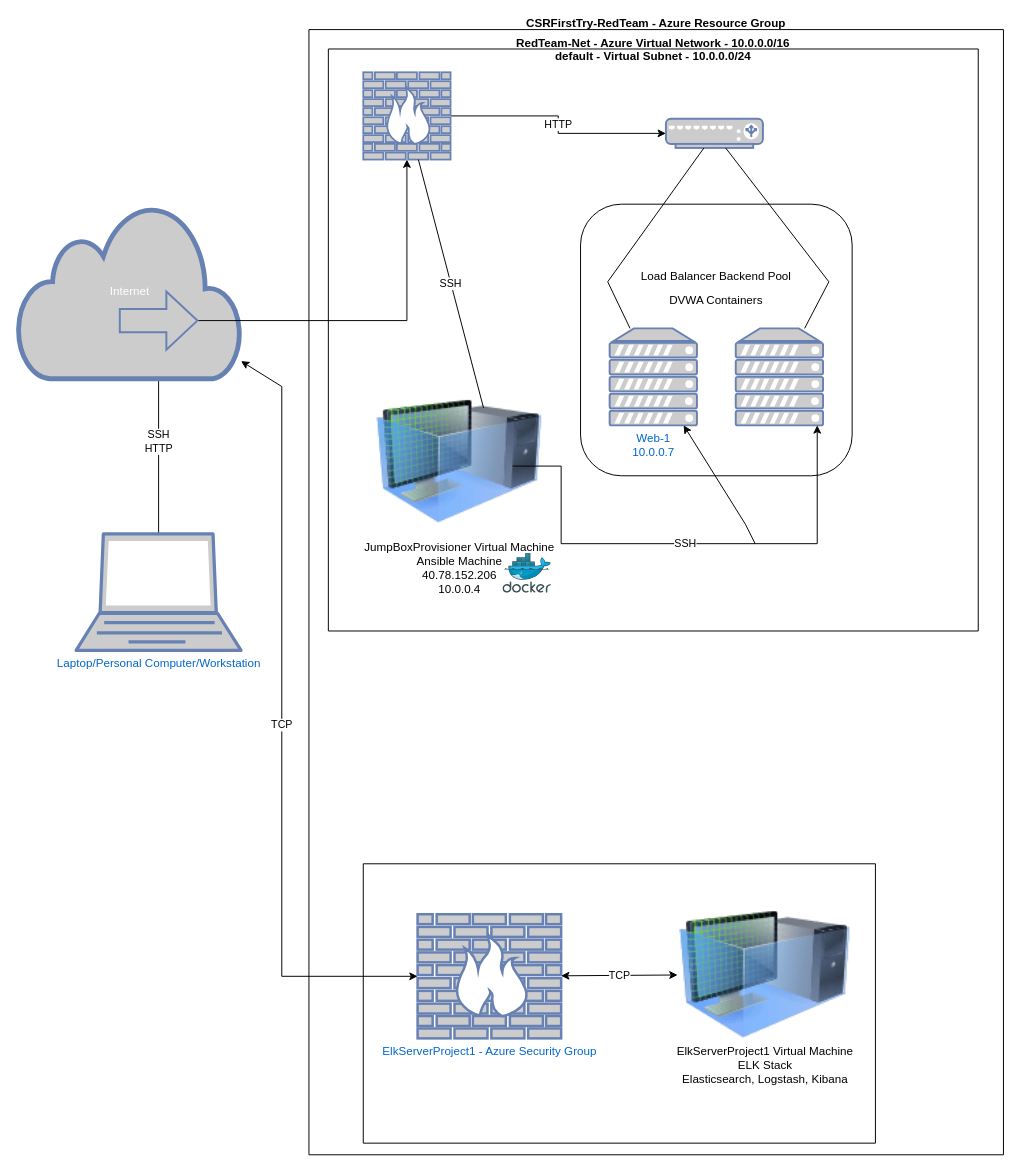
This 1020x1172 diagram has some shape labels left out. Each missing label, with the box of its shape:
Project1VNet - Azure Virtual Network - 10.1.0.0/16: (362, 863, 875, 1143)
RedTeam-SecurityGroup - Azure Security Group: (362, 71, 451, 160)
RedTeam_LoadBalancer 52.176.146.173: (664, 117, 763, 148)
Web-2 10.0.0.6: (734, 327, 824, 426)
